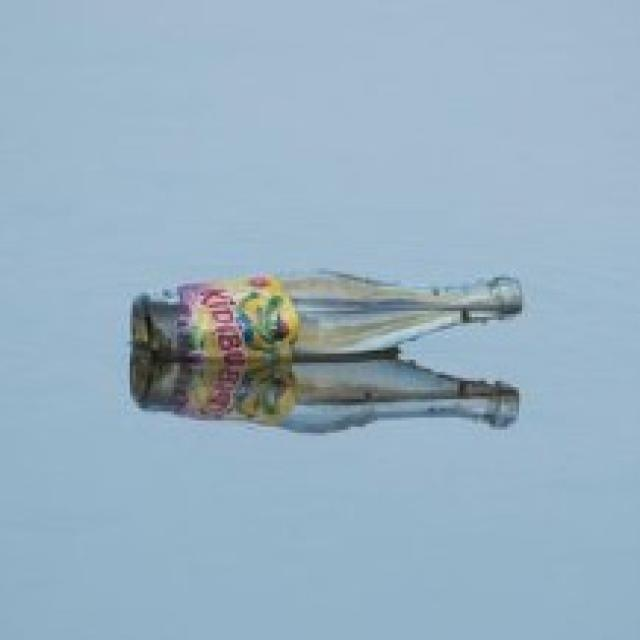electronic: (131, 267, 528, 361)
